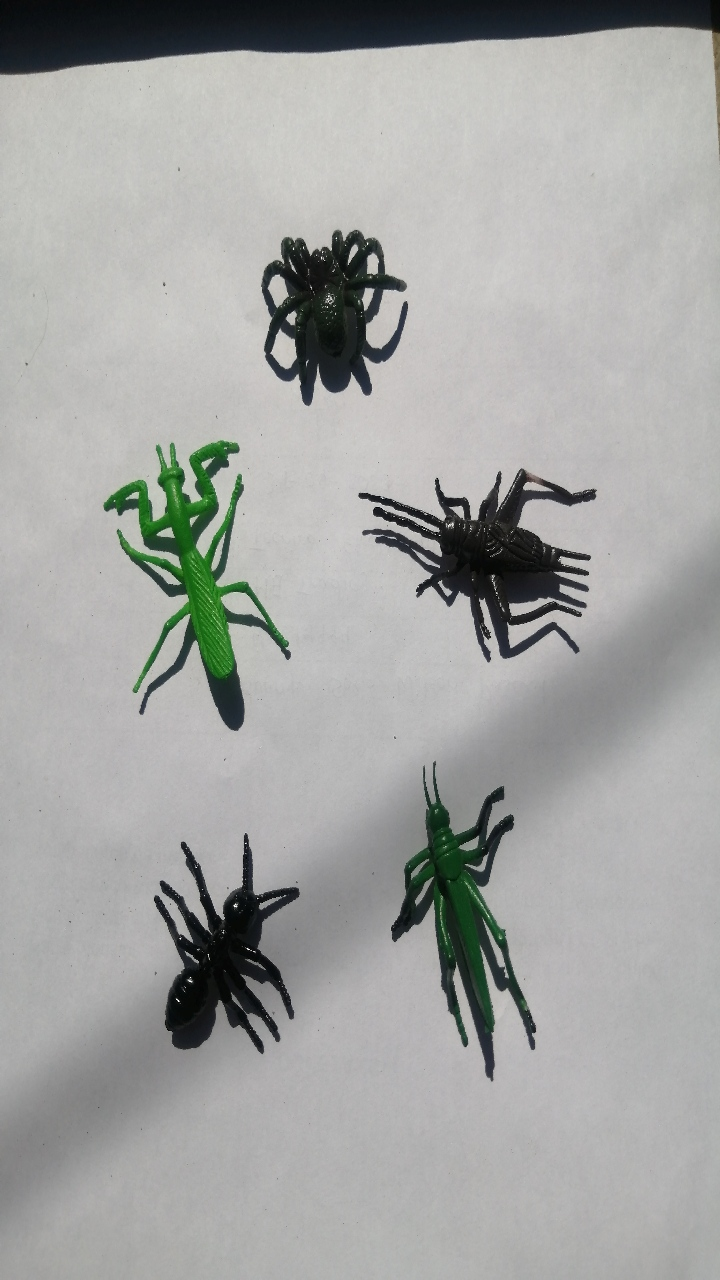intruso: (363, 742, 572, 1099), (78, 414, 301, 740), (331, 451, 620, 679), (120, 800, 308, 1092), (218, 191, 428, 415)
